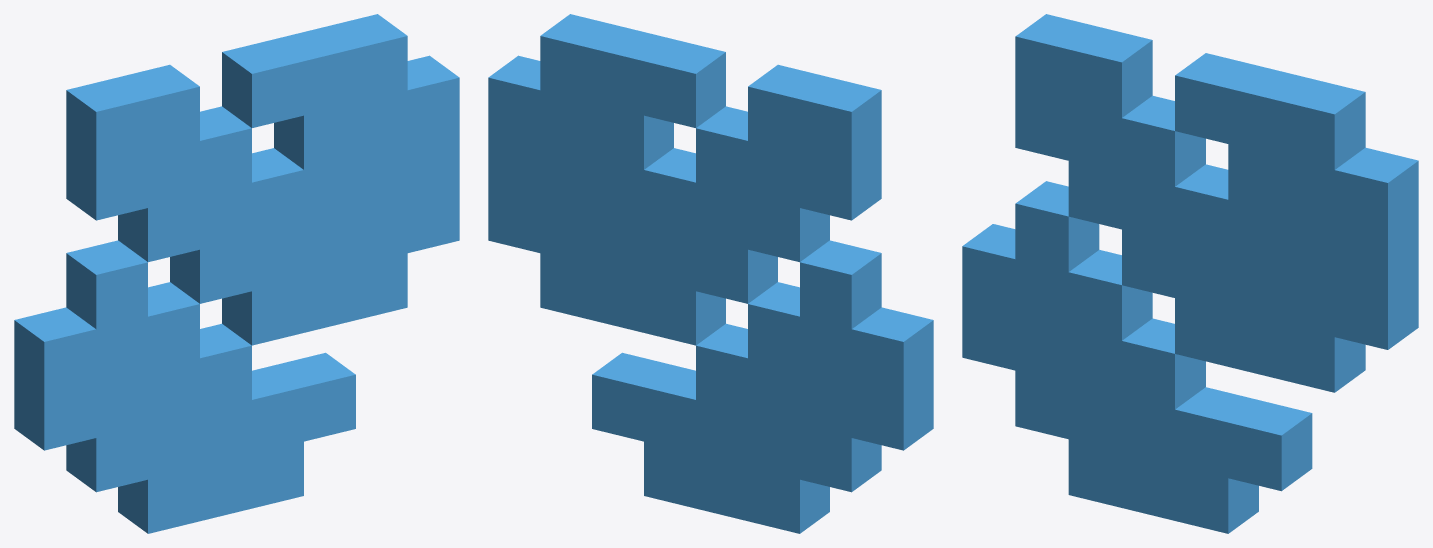
Rendered from Hauberk-Blue.vox.obj.
3 renders of one model, left to right at view 1: azimuth 30°, elevation 25°; view 2: azimuth 150°, elevation 25°; view 3: azimuth 330°, elevation 25°, orthographic. The views are drawn at different scales.
Size of the model in its own units: 0.8 by 0.8 by 0.1.
Materials: 1 (1 with a texture image).
